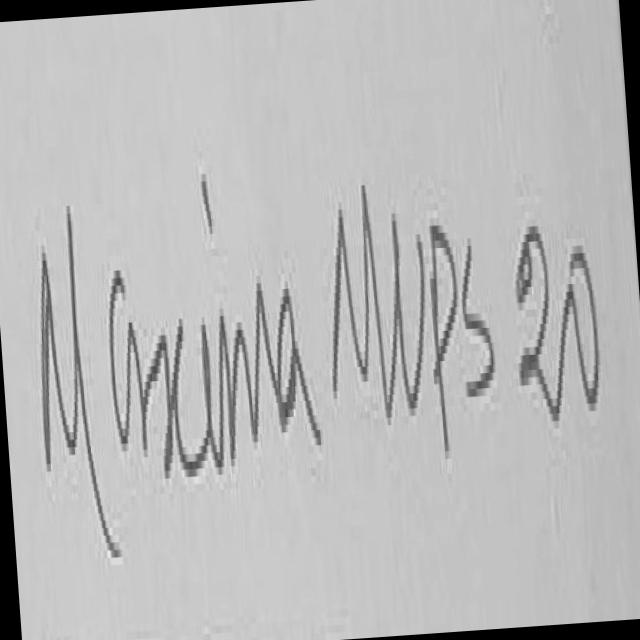0: (566, 226, 600, 420)
2: (517, 226, 560, 409)
M: (40, 209, 118, 553), (333, 185, 390, 411)
a: (108, 278, 155, 445), (276, 281, 322, 441)
i: (199, 315, 219, 488)
m: (218, 257, 278, 470)
p: (427, 207, 457, 461)
s: (464, 238, 495, 392)
u: (389, 227, 429, 415)
x: (161, 298, 203, 484)
